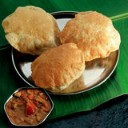poori: (61, 10, 121, 60), (3, 3, 61, 54), (30, 43, 84, 90)
